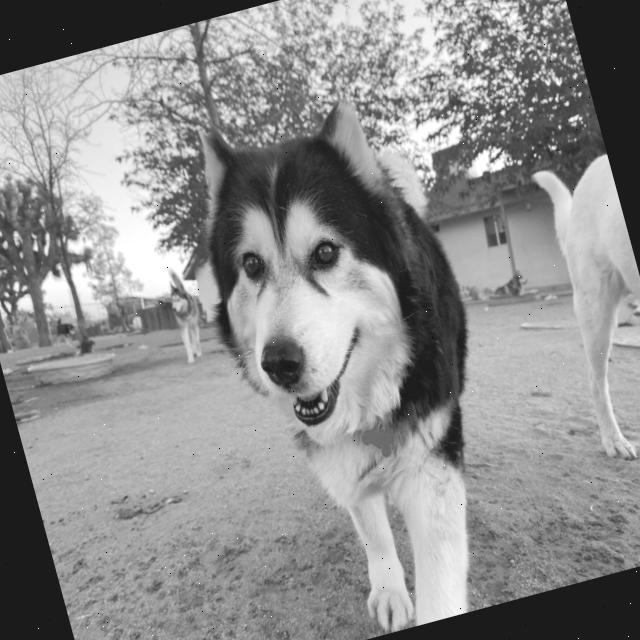siberian_husky_dog: (148, 62, 470, 476)
